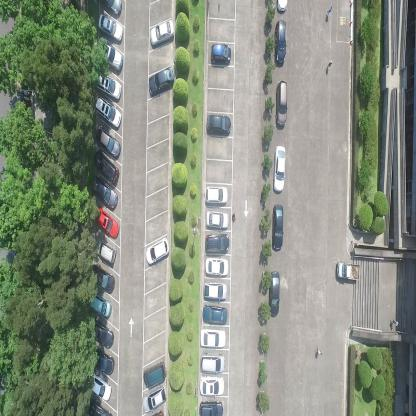car: (94, 95, 122, 129), (93, 125, 121, 158), (92, 150, 119, 184), (147, 64, 175, 96), (98, 38, 124, 72), (92, 176, 118, 210), (94, 206, 120, 239), (90, 316, 115, 350), (94, 71, 122, 100), (97, 14, 124, 44), (149, 17, 175, 48), (145, 236, 170, 268), (141, 384, 167, 414), (142, 361, 166, 390), (92, 264, 115, 294), (91, 346, 114, 376), (273, 145, 286, 195), (276, 78, 288, 130), (202, 303, 228, 327), (94, 236, 116, 264), (91, 373, 112, 402), (206, 112, 231, 136), (89, 292, 112, 318), (274, 19, 286, 67), (199, 352, 225, 374), (198, 376, 225, 397), (272, 202, 283, 253), (269, 270, 280, 318), (336, 260, 360, 282), (204, 233, 230, 253), (200, 328, 226, 348), (205, 183, 228, 205), (205, 209, 229, 229), (203, 280, 227, 300), (204, 258, 230, 276), (210, 43, 232, 64), (89, 398, 113, 416), (199, 400, 223, 415), (100, 0, 123, 15), (276, 0, 289, 15)
